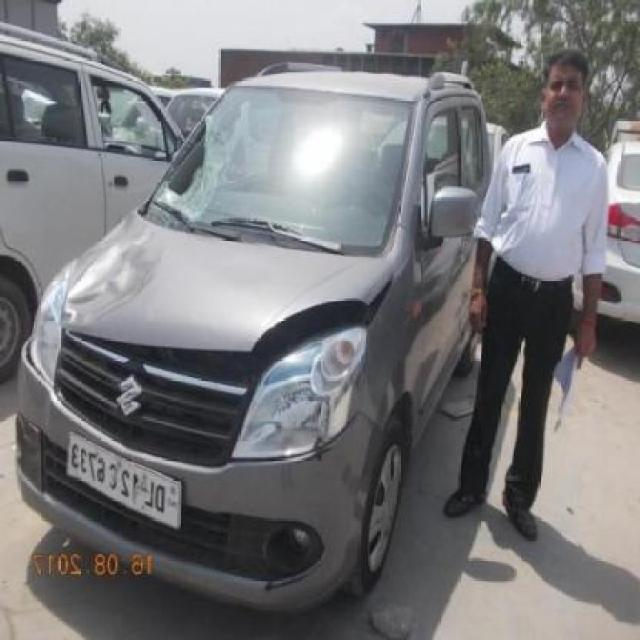damage: (245, 281, 394, 391), (59, 212, 159, 330), (139, 116, 219, 216), (262, 562, 322, 597)
